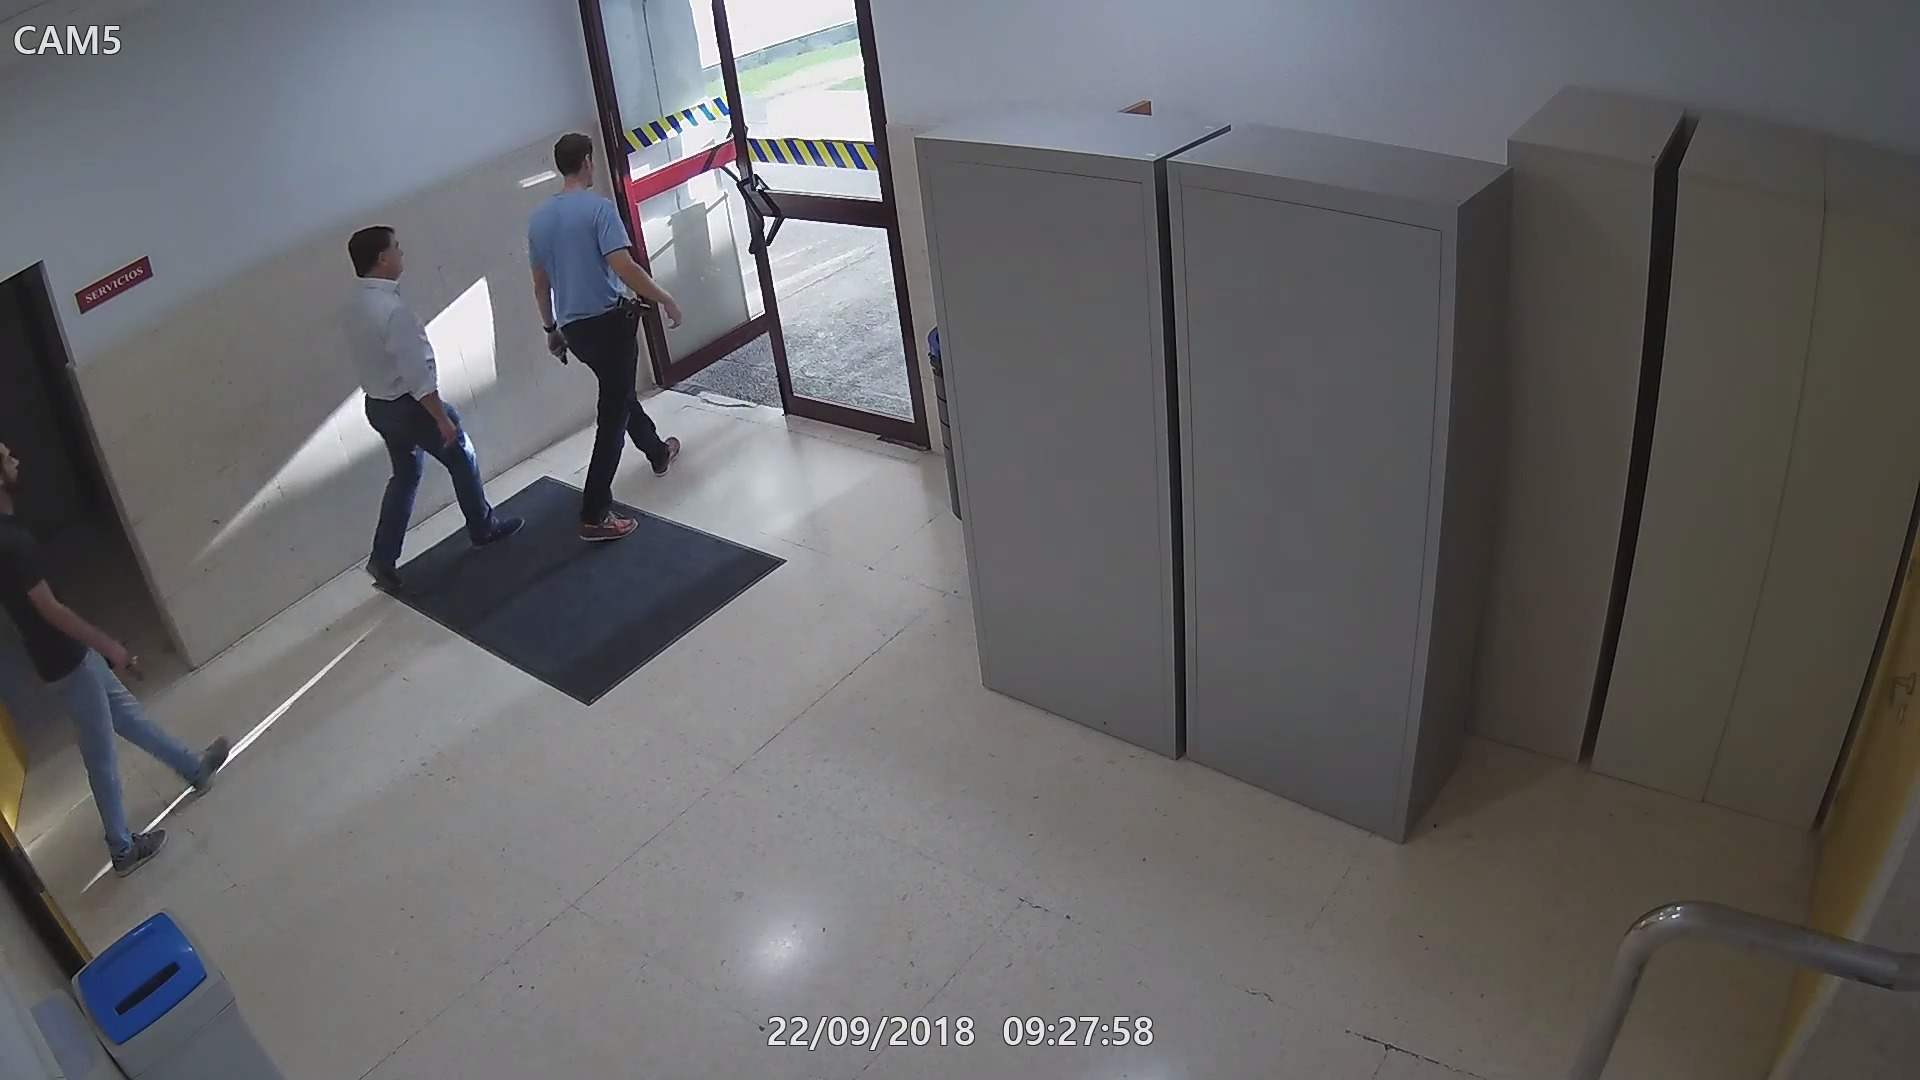Handgun: (105, 640, 146, 682), (617, 295, 646, 345)
Knife: (547, 326, 580, 392)
